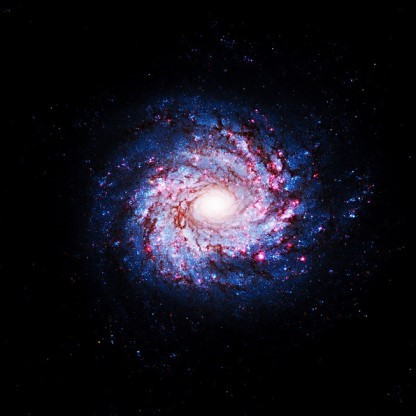NGC 3982: (88, 100, 346, 311)
